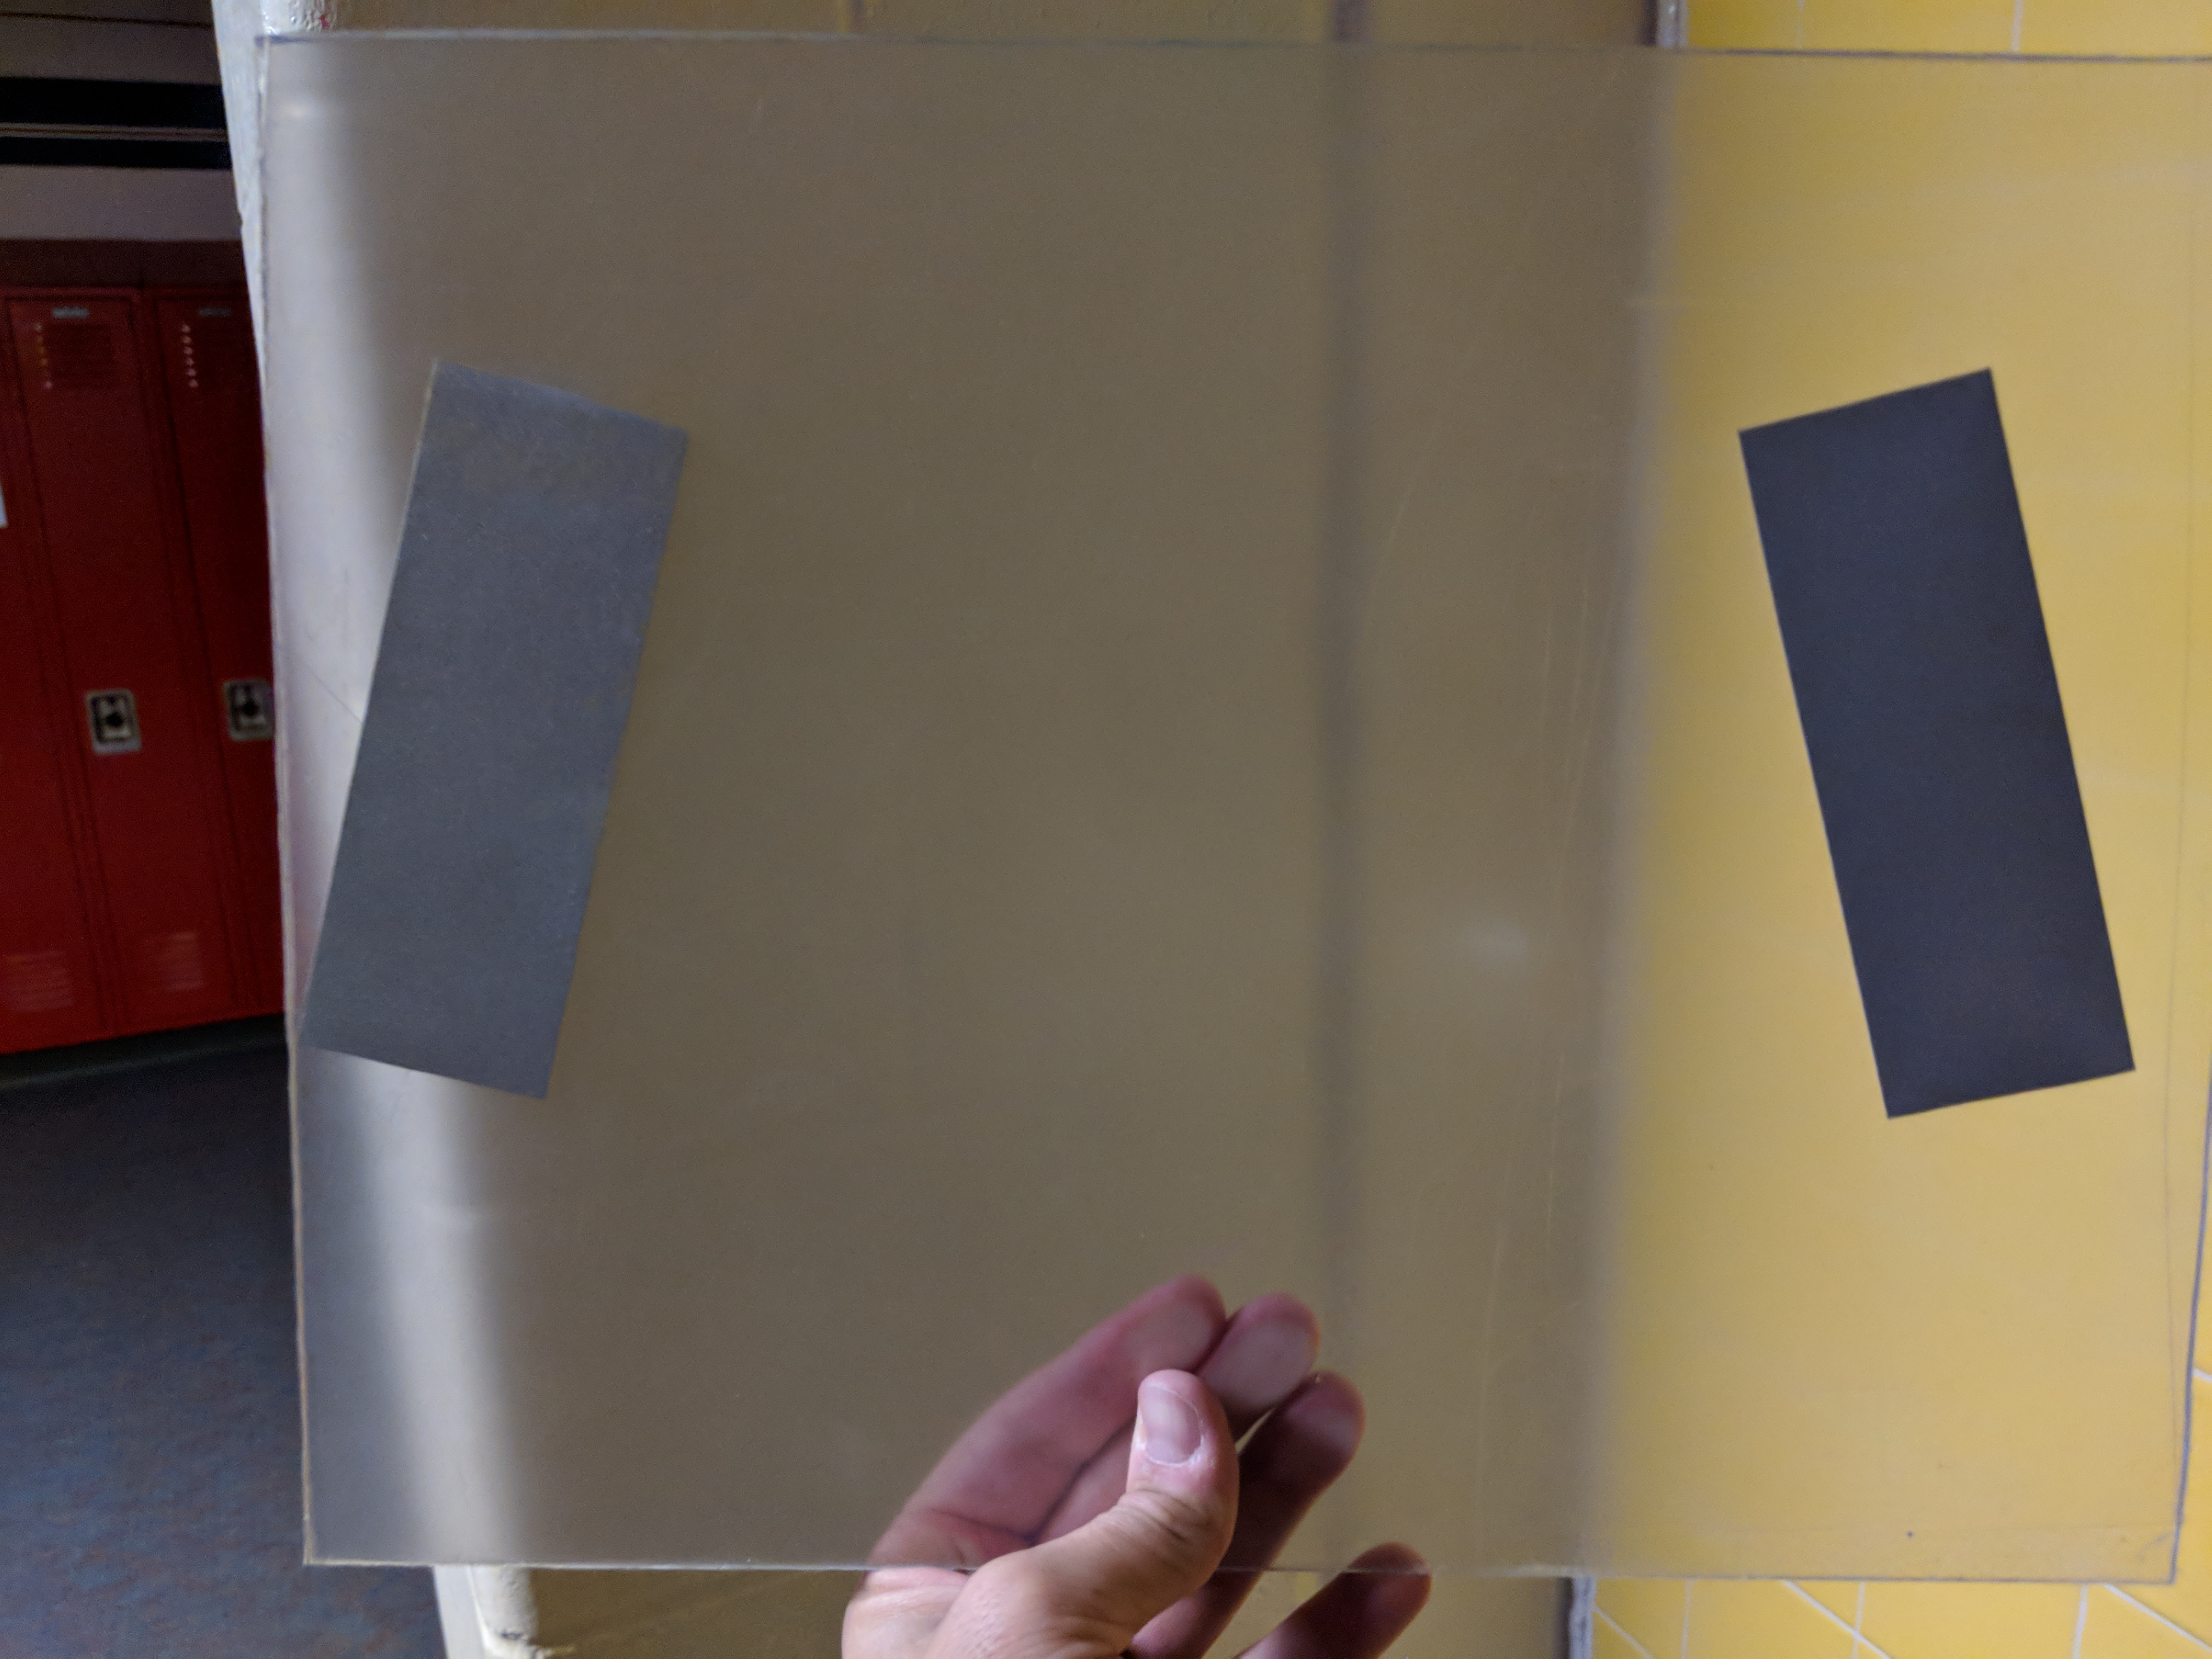vision_target: (265, 343, 2151, 1129)
